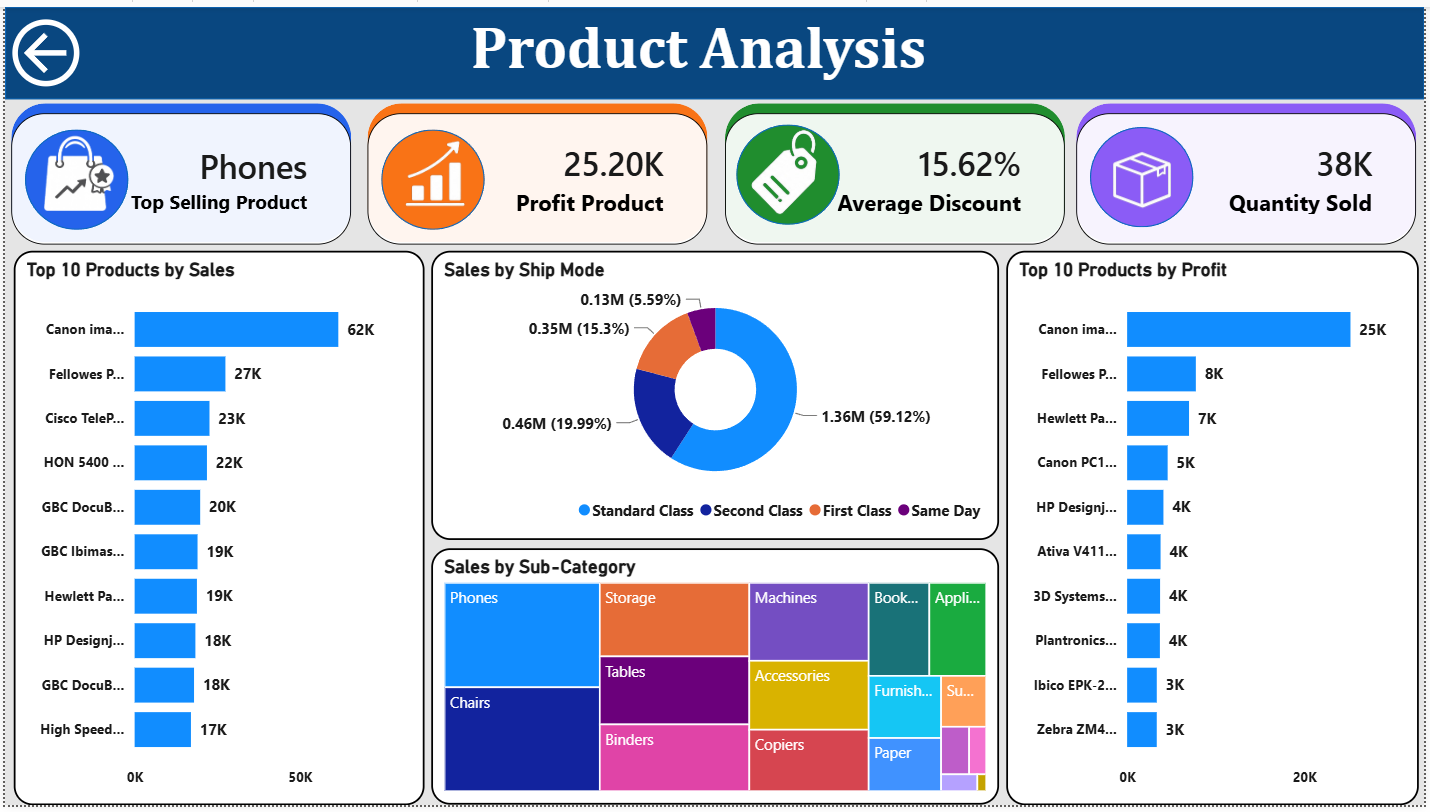

Layout of this report page (visuals, bound fields, positions):
{"tool":"powerbi","page":{"name":"Product Analysis","canvas":[1280,720],"ordinal":2},"visuals":[{"type":"group","id":"g1","title":"card1","box":[5.9,86.9,306.7,128.1],"z":0,"group":"g5"},{"type":"shape","box":[5.9,86.9,306.7,125.4],"z":0,"group":"g1"},{"type":"shape","box":[326.6,86.9,306.7,125.4],"z":0,"group":"g3"},{"type":"shape","box":[649,86.9,306.7,125.4],"z":0,"group":"g4"},{"type":"shape","box":[965.8,86.9,306.7,125.4],"z":0,"group":"g2"},{"type":"shape","box":[978.1,108.5,93.2,90.4],"z":0,"group":"g8"},{"type":"treemap","title":"Sales by Sub-Category","fields":{"Values":["Sum(Orders.Sales)"],"Group":["Orders.Sub-Category"]},"box":[384,487.9,512.4,231.1],"z":0},{"type":"group","id":"g2","title":"card5","box":[965.8,86.9,306.9,128.4],"z":1000,"group":"g6"},{"type":"cardVisual","fields":{"Data":["_measure.Top Selling Product"]},"box":[5.9,96.4,306.7,118.6],"z":1000,"group":"g1"},{"type":"cardVisual","fields":{"Data":["_measure.Most Profitable Product Profit"]},"box":[326.6,96.4,306.7,118.6],"z":1000,"group":"g3"},{"type":"cardVisual","fields":{"Data":["_measure.Average Discount"]},"box":[649,96.4,306.7,118.6],"z":1000,"group":"g4"},{"type":"cardVisual","fields":{"Data":["_measure.Quantity Sold"]},"box":[965.8,96.4,306.7,118.6],"z":1000,"group":"g2"},{"type":"group","id":"g3","title":"card3","box":[326.6,86.9,306.7,128.1],"z":2000,"group":"g5"},{"type":"group","id":"g4","title":"card5","box":[649,86.9,306.7,128.1],"z":3000,"group":"g5"},{"type":"shape","box":[658.9,105.5,93.2,90.4],"z":3000,"group":"g7"},{"type":"barChart","title":"Top 10 Products by Sales","fields":{"Category":["Orders.Product Name"],"Y":["Sum(Orders.Sales)"]},"box":[7.3,220.1,370.5,500.1],"z":4000},{"type":"barChart","title":"Top 10 Products by Profit","fields":{"Y":["Sum(Orders.Profit)"],"Category":["Orders.Product Name"]},"box":[902.5,220.1,371.7,500.1],"z":5000},{"type":"donutChart","title":"Sales by Ship Mode","fields":{"Category":["Orders.Ship Mode"],"Y":["Sum(Orders.Sales)"]},"box":[384,220.1,512.4,260.5],"z":6000},{"type":"image","box":[663.1,105.5,80.7,84.9],"z":7000,"group":"g7"},{"type":"shape","box":[980.7,113.7,89.3,85.6],"z":7000},{"type":"group","id":"g5","title":"Card_group","box":[5.9,86.9,950.1,128.4],"z":8000,"group":"g6"},{"type":"shape","box":[8.6,111.3,89.3,85.6],"z":8000},{"type":"shape","box":[651.8,113.7,89.3,85.6],"z":9000},{"type":"shape","box":[328.9,110.1,89.3,85.6],"z":10000},{"type":"shape","title":"Customer & Regional Analysis","box":[0,0,1280,83.5],"z":11000},{"type":"actionButton","title":"back Button","box":[0,4.2,101.6,73.7],"z":12000},{"type":"textbox","box":[353.4,0,542.6,83.5],"z":13000},{"type":"group","id":"g6","title":"Group 1","box":[5.9,86.9,1266.9,128.4],"z":14000},{"type":"group","id":"g7","title":"Group 1","box":[658.9,105.5,93.2,90.4],"z":15000},{"type":"group","id":"g8","title":"Group 3","box":[978.1,108.5,93.2,90.4],"z":16000},{"type":"shape","box":[339.6,109.9,93.2,90.4],"z":17000},{"type":"image","box":[343.7,111.3,86.3,72.3],"z":18000},{"type":"image","box":[939.1,55.7,172.5,199],"z":19000},{"type":"shape","box":[18.1,109.9,93.2,90.4],"z":20000},{"type":"image","box":[19.5,112.7,93.2,77.9],"z":21000}]}

Visuals, with their boxes in screenshot pixels (x1, y1, x2, y2), scaled from the page's 1280x720 canvas onto the 1430x812 screenshot:
"card1" group: 7:98:349:242
shape: 7:98:349:239
shape: 365:98:708:239
shape: 725:98:1068:239
shape: 1079:98:1422:239
shape: 1093:122:1197:224
"Sales by Sub-Category" treemap: 429:550:1001:811
"card5" group: 1079:98:1422:243
cardVisual - _measure.Top Selling Product: 7:109:349:242
cardVisual - _measure.Most Profitable Product Profit: 365:109:708:242
cardVisual - _measure.Average Discount: 725:109:1068:242
cardVisual - _measure.Quantity Sold: 1079:109:1422:242
"card3" group: 365:98:708:242
"card5" group: 725:98:1068:242
shape: 736:119:840:221
"Top 10 Products by Sales" barChart: 8:248:422:811
"Top 10 Products by Profit" barChart: 1008:248:1424:811
"Sales by Ship Mode" donutChart: 429:248:1001:542
image: 741:119:831:215
shape: 1096:128:1195:225
"Card_group" group: 7:98:1068:243
shape: 10:126:109:222
shape: 728:128:828:225
shape: 367:124:467:221
"Customer & Regional Analysis" shape: 0:0:1429:94
"back Button" actionButton: 0:5:114:88
textbox: 395:0:1001:94
"Group 1" group: 7:98:1422:243
"Group 1" group: 736:119:840:221
"Group 3" group: 1093:122:1197:224
shape: 379:124:484:226
image: 384:126:480:207
image: 1049:63:1242:287
shape: 20:124:124:226
image: 22:127:126:215
